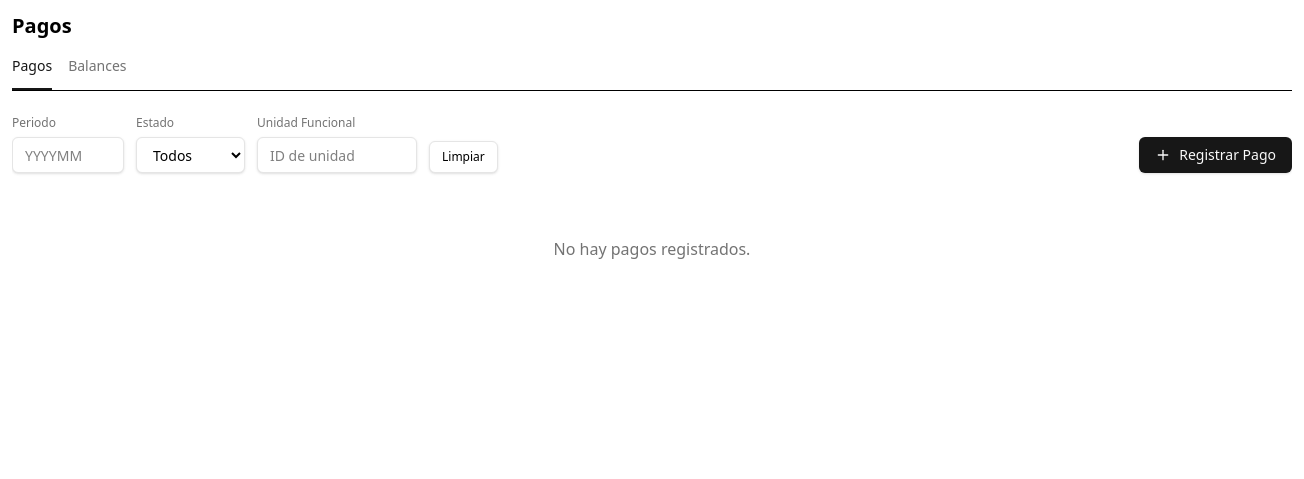
Test: PaymentListPage › [@happy-path] balances tab shows UF selector and balance for selected unit
The width and height of the screenshot is (1304, 479).
Click the button "Balances": (97, 73) [68,56,126,90]
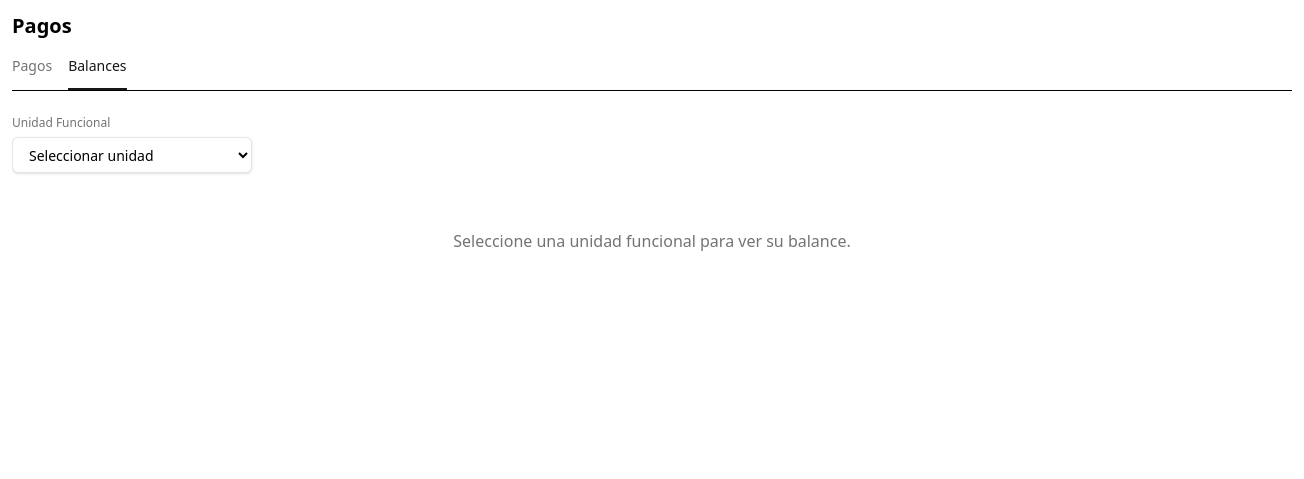
Result: the dropdown named "Seleccionar unidad funcional" is shown
Result: the text "Seleccione una unidad funcional para ver su balance." is shown at [453,230,851,252]
Select "1A" in the dropdown named "Seleccionar unidad funcional": (132, 155) [12,137,252,173]
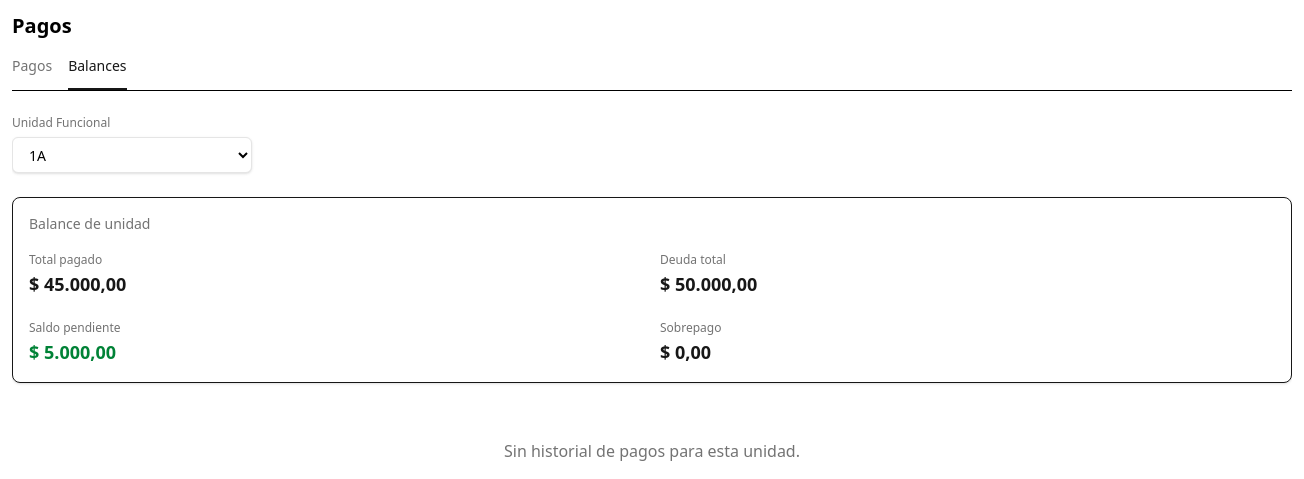
Result: the text "Total pagado" is shown at [29,251,102,268]
Result: the text "Sin historial de pagos para esta unidad." is shown at [504,440,800,462]
